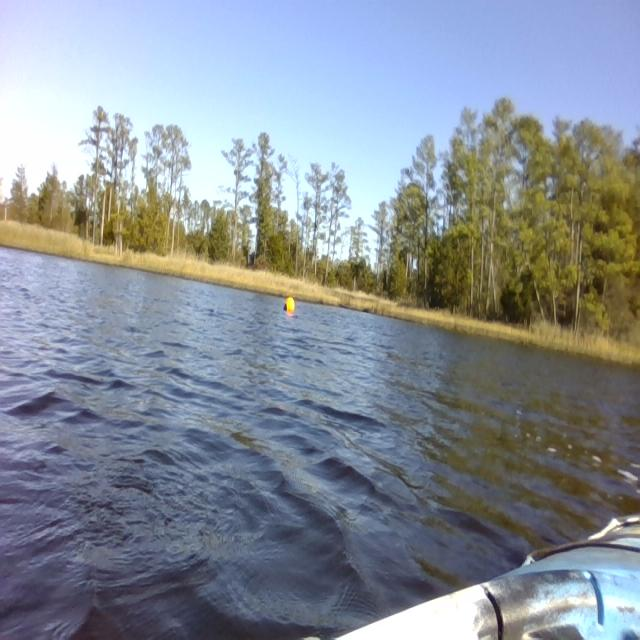Buoy: (282, 291, 297, 318)
